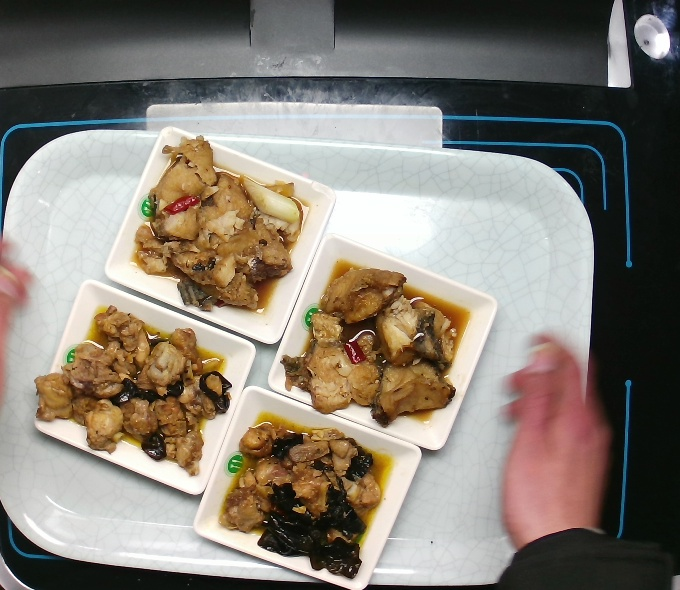wcq-MuErRouKuai: (28, 302, 239, 483), (215, 416, 386, 582)
wcq-YuKuai: (128, 132, 305, 322), (275, 261, 464, 427)
